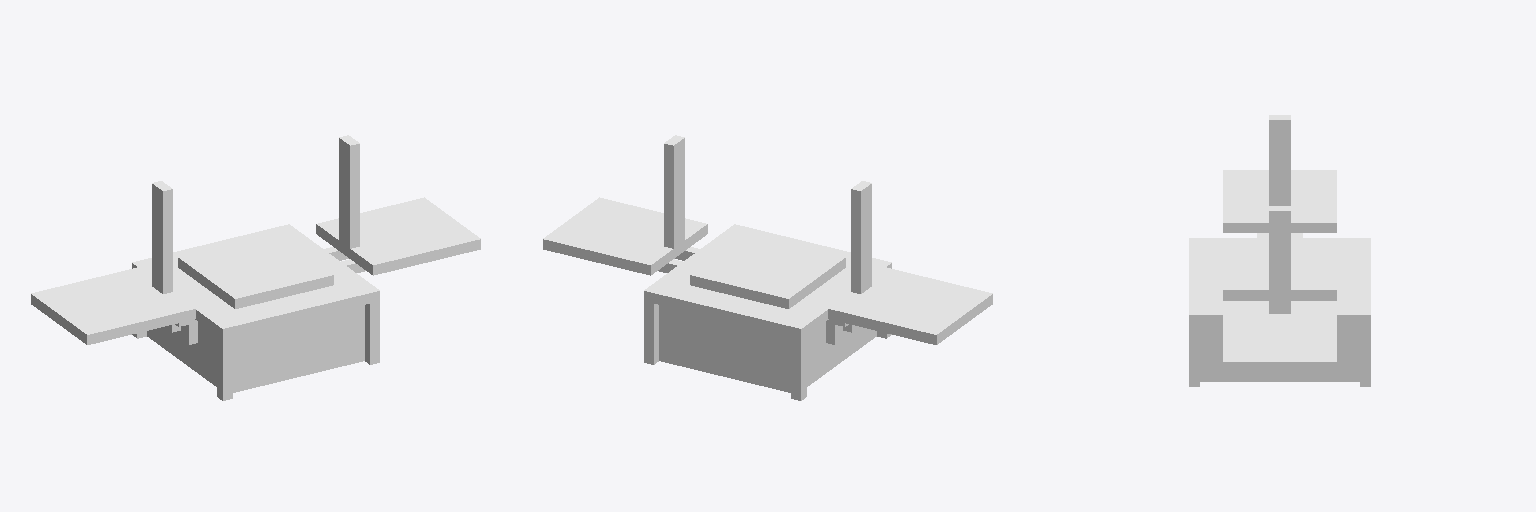
Rendered from Combiner-3-base.obj.
The picture shows the model from 3 angles: view 1: azimuth 30°, elevation 25°; view 2: azimuth 150°, elevation 25°; view 3: azimuth 270°, elevation 25°; orthographic projection.
Visible parts, largest first — view 1: base; view 2: base; view 3: base.
Boxes of the visible parts, box(x1,y1,x2,y2) form: base: box(31, 135, 480, 400); base: box(543, 135, 992, 400); base: box(1189, 115, 1370, 386).
Bounding box in the file's own units: 4 × 1.8 × 1.6.